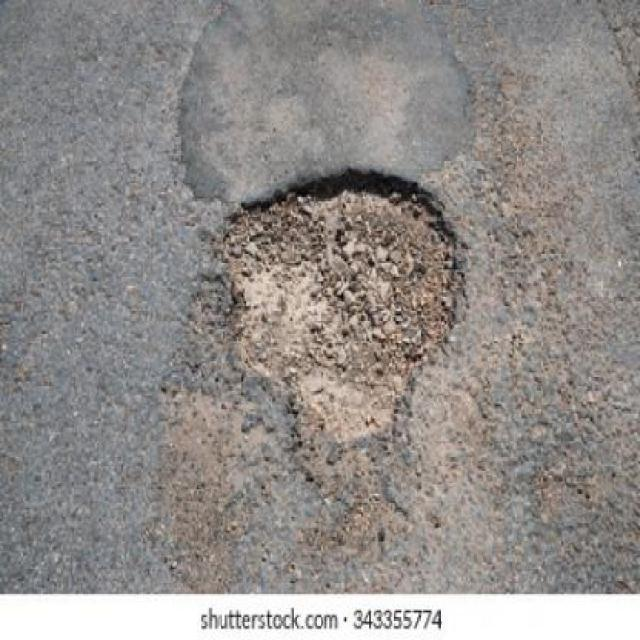Pothole: (224, 170, 461, 442)
